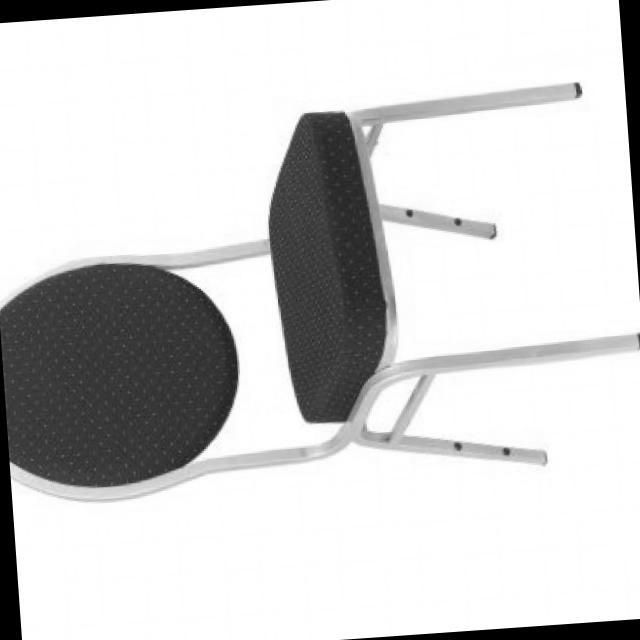chair: (0, 68, 640, 504)
